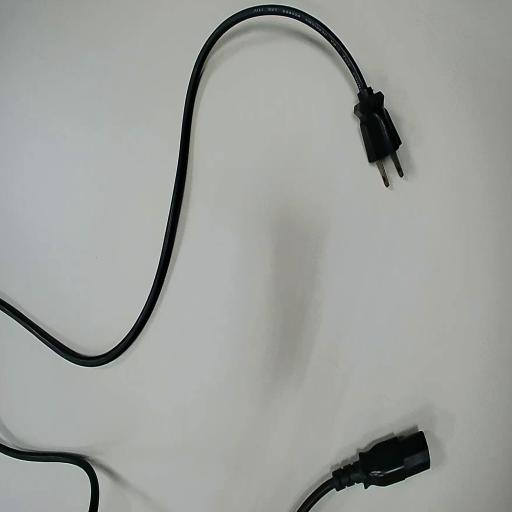wire: (0, 6, 401, 365), (298, 432, 429, 511)
